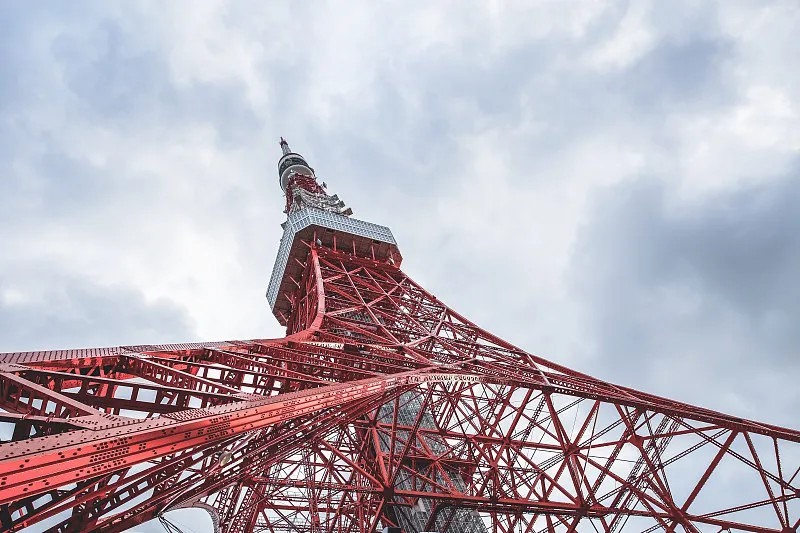Tokyo: (1, 131, 800, 533)
